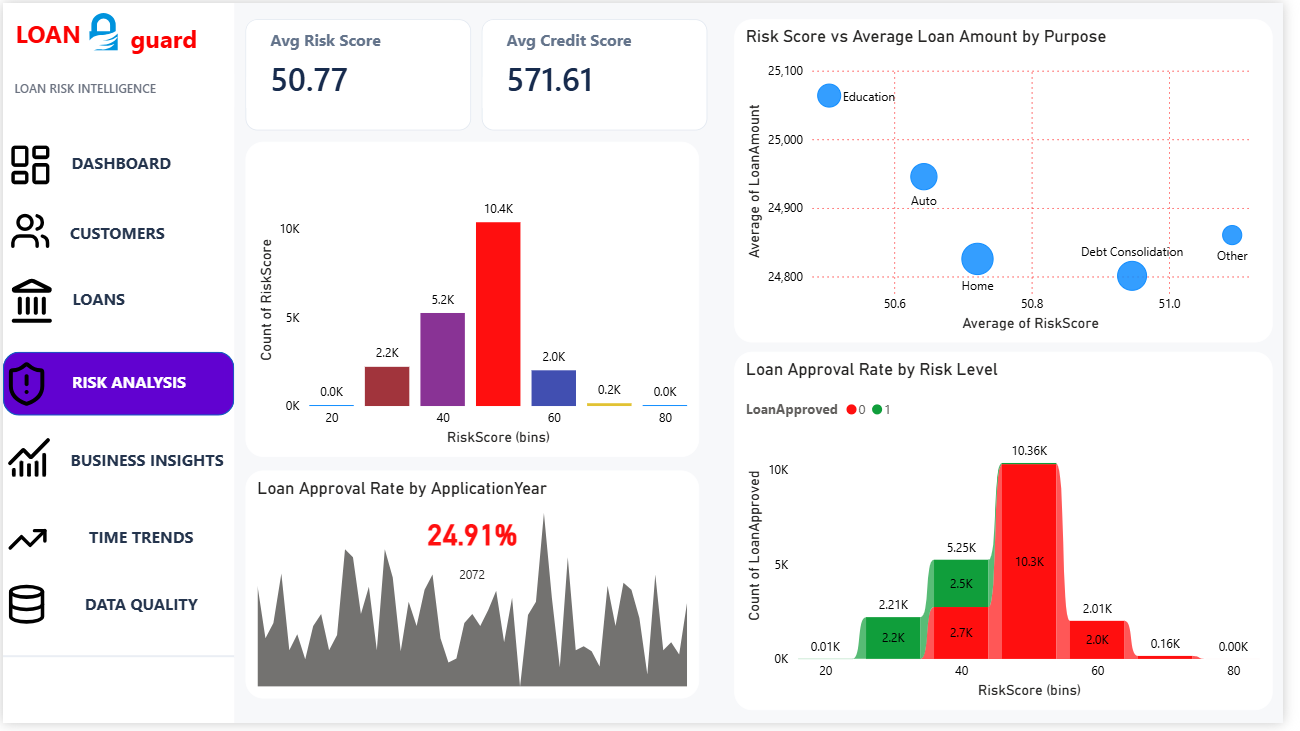

This screenshot's page, from the dashboard's own definition file:
{"tool":"powerbi","page":{"name":"Risk Analysis","canvas":[1280,720],"ordinal":3},"visuals":[{"type":"shape","box":[0,0,231.5,720],"z":0},{"type":"textbox","box":[0,71,231.5,32.9],"z":0,"group":"g1"},{"type":"shape","box":[0,638.7,231.5,28.8],"z":0,"group":"g2"},{"type":"textbox","box":[20.1,207.5,188.6,51.5],"z":1000,"group":"g1"},{"type":"shape","box":[0,348.8,231.2,63.8],"z":1000},{"type":"group","id":"g1","title":"Group 3","box":[0,10.2,231.5,657.2],"z":2000},{"type":"textbox","box":[3.8,272.4,184,51],"z":2000,"group":"g1"},{"type":"textbox","box":[46.2,433.7,183.4,51],"z":3000,"group":"g1"},{"type":"textbox","box":[46.2,510,184,51],"z":3000},{"type":"actionButton","box":[0,136.2,210,46.2],"z":4000},{"type":"textbox","box":[25,354.9,197,51],"z":4000,"group":"g1"},{"type":"actionButton","box":[0,202.5,192.5,50],"z":5000},{"type":"textbox","box":[38.8,516.2,184,51],"z":5000,"group":"g1"},{"type":"textbox","box":[26.8,136.6,184,51],"z":6000,"group":"g1"},{"type":"actionButton","box":[0,273.8,192.5,50],"z":6000},{"type":"image","box":[0,207.5,54.6,41.1],"z":7000,"group":"g1"},{"type":"actionButton","box":[0,433.8,221.2,50],"z":7000},{"type":"image","box":[3.6,138.7,47.4,46],"z":8000,"group":"g1"},{"type":"actionButton","box":[0,511.2,192.5,50],"z":8000},{"type":"image","box":[0,273.7,57.5,47.7],"z":9000,"group":"g1"},{"type":"actionButton","box":[3.8,576.2,192.5,50],"z":9000},{"type":"cardVisual","fields":{"Data":["loanguard loan_applications.Avg Risk Score"]},"box":[242.5,15.7,225.6,111],"z":10000},{"type":"image","box":[0,357.4,47.4,47.7],"z":10000,"group":"g1"},{"type":"cardVisual","fields":{"Data":["loanguard loan_applications.Avg Credit Score"]},"box":[479,15.7,225.6,111],"z":11000},{"type":"image","box":[0,431.2,51.8,46],"z":11000,"group":"g1"},{"type":"clusteredColumnChart","title":"Risk Score Distribution","fields":{"Category":["loanguard loan_applications.RiskScore (bins)"],"Y":["CountNonNull(loanguard loan_applications.RiskScore)"]},"box":[242.5,138.7,453.6,314.9],"z":12000},{"type":"image","box":[3.8,507.4,41.7,57.5],"z":12000,"group":"g1"},{"type":"scatterChart","title":"Risk Score vs Average Loan Amount by Purpose","fields":{"X":["Avg(loanguard loan_applications.RiskScore)"],"Y":["Avg(loanguard loan_applications.LoanAmount)"],"Size":["Sum(loanguard loan_applications.LoanAmount)1"],"Category":["loanguard loan_applications.LoanPurpose"]},"box":[731.1,15.7,538.1,323.3],"z":13000},{"type":"image","box":[0,579.9,47.4,42.7],"z":13000,"group":"g1"},{"type":"textbox","box":[7.2,10.2,89.1,60.8],"z":14000,"group":"g1"},{"type":"columnChart","title":"Loan Approval Rate by Risk Level","fields":{"Category":["loanguard loan_applications.RiskScore (bins)"],"Y":["CountNonNull(loanguard loan_applications.LoanApproved)"],"Series":["loanguard loan_applications.LoanApproved"]},"box":[731.1,348.7,538.1,358.3],"z":14000},{"type":"image","box":[73.3,10.2,53.2,37.8],"z":15000,"group":"g1"},{"type":"kpi","fields":{"Indicator":["loanguard loan_applications.Loan Approval Rate"],"TrendLine":["loanguard loan_applications.ApplicationYear"]},"box":[242.5,466.9,453.6,228],"z":15000},{"type":"textbox","box":[122.2,15.1,90.6,54.3],"z":16000,"group":"g1"},{"type":"group","id":"g2","title":"Group 1","box":[0,638.7,231.2,28.8],"z":17000,"group":"g1"},{"type":"textbox","box":[46.2,577.4,184,51],"z":18000,"group":"g1"}]}

Visuals, with their boxes on the page's 1280x720 design canvas (x1, y1, x2, y2). These are canvas units, not pixel positions in the 1300x731 screenshot, which may show the page scaled, cropped or inside an application window:
shape: 0:0:232:720
textbox: 0:71:232:104
shape: 0:639:232:668
textbox: 20:208:209:259
shape: 0:349:231:413
"Group 3" group: 0:10:232:667
textbox: 4:272:188:323
textbox: 46:434:230:485
textbox: 46:510:230:561
actionButton: 0:136:210:182
textbox: 25:355:222:406
actionButton: 0:202:192:252
textbox: 39:516:223:567
textbox: 27:137:211:188
actionButton: 0:274:192:324
image: 0:208:55:249
actionButton: 0:434:221:484
image: 4:139:51:185
actionButton: 0:511:192:561
image: 0:274:58:321
actionButton: 4:576:196:626
cardVisual - loanguard loan_applications.Avg Risk Score: 242:16:468:127
image: 0:357:47:405
cardVisual - loanguard loan_applications.Avg Credit Score: 479:16:705:127
image: 0:431:52:477
"Risk Score Distribution" clusteredColumnChart: 242:139:696:454
image: 4:507:46:565
"Risk Score vs Average Loan Amount by Purpose" scatterChart: 731:16:1269:339
image: 0:580:47:623
textbox: 7:10:96:71
"Loan Approval Rate by Risk Level" columnChart: 731:349:1269:707
image: 73:10:126:48
kpi - loanguard loan_applications.Loan Approval Rate x loanguard loan_applications.ApplicationYear: 242:467:696:695
textbox: 122:15:213:69
"Group 1" group: 0:639:231:668
textbox: 46:577:230:628
